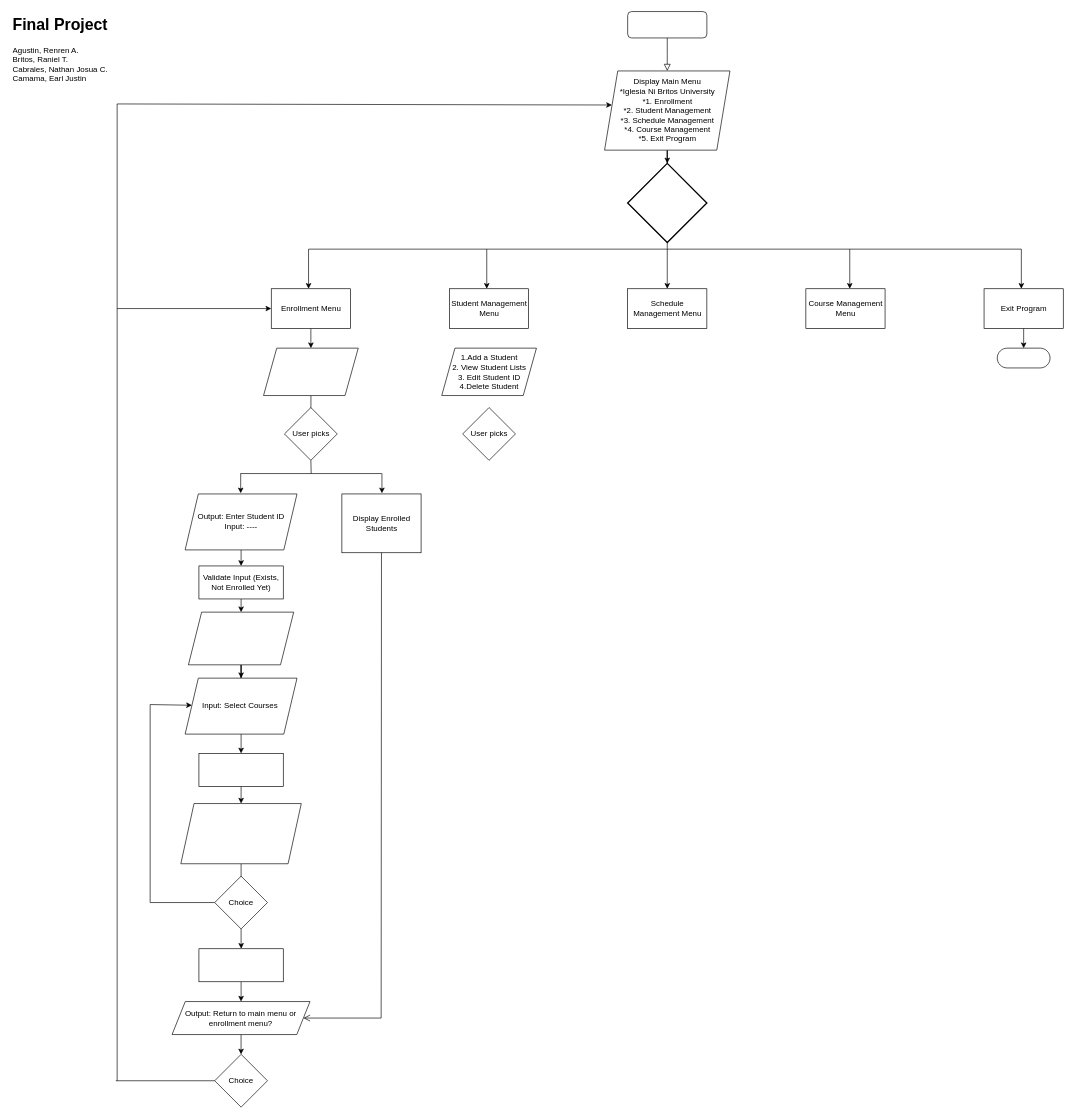
Some shapes in this 1074 by 1119 pixel diagram are drawn without their labels. The box of each missing label's shape, as (x1, y1, x2, y2) in pixels:
1.Enroll a Student 2. Display Enrolled Students: (263, 347, 358, 396)
End: (997, 347, 1050, 368)
Output: Confirm (Yes or No): (180, 803, 301, 864)
Output: Display Available Courses: (188, 611, 294, 665)
Start: (627, 11, 707, 38)
User Picks from choices: (627, 162, 707, 243)
Validate Enrollment (Year Level, Duplicate): (198, 753, 283, 786)
View Student's Schedule: (198, 948, 283, 982)
